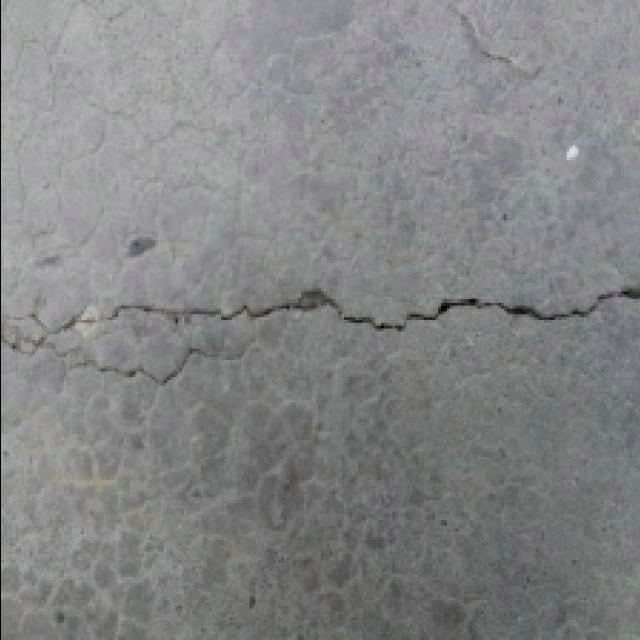SurfaceCrack: (4, 270, 640, 390)
